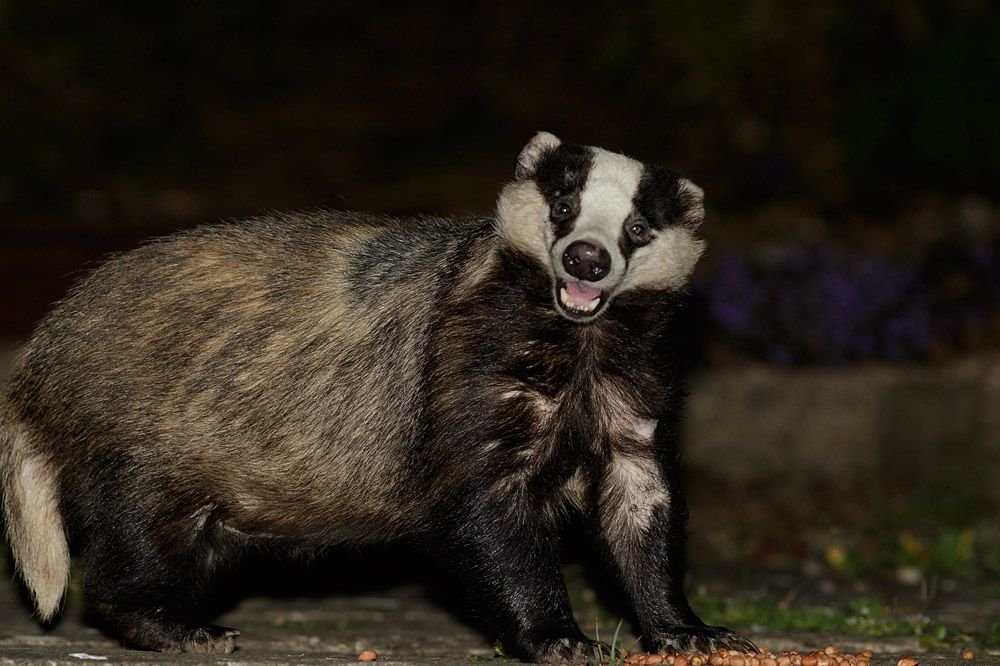badger: (4, 127, 784, 662)
